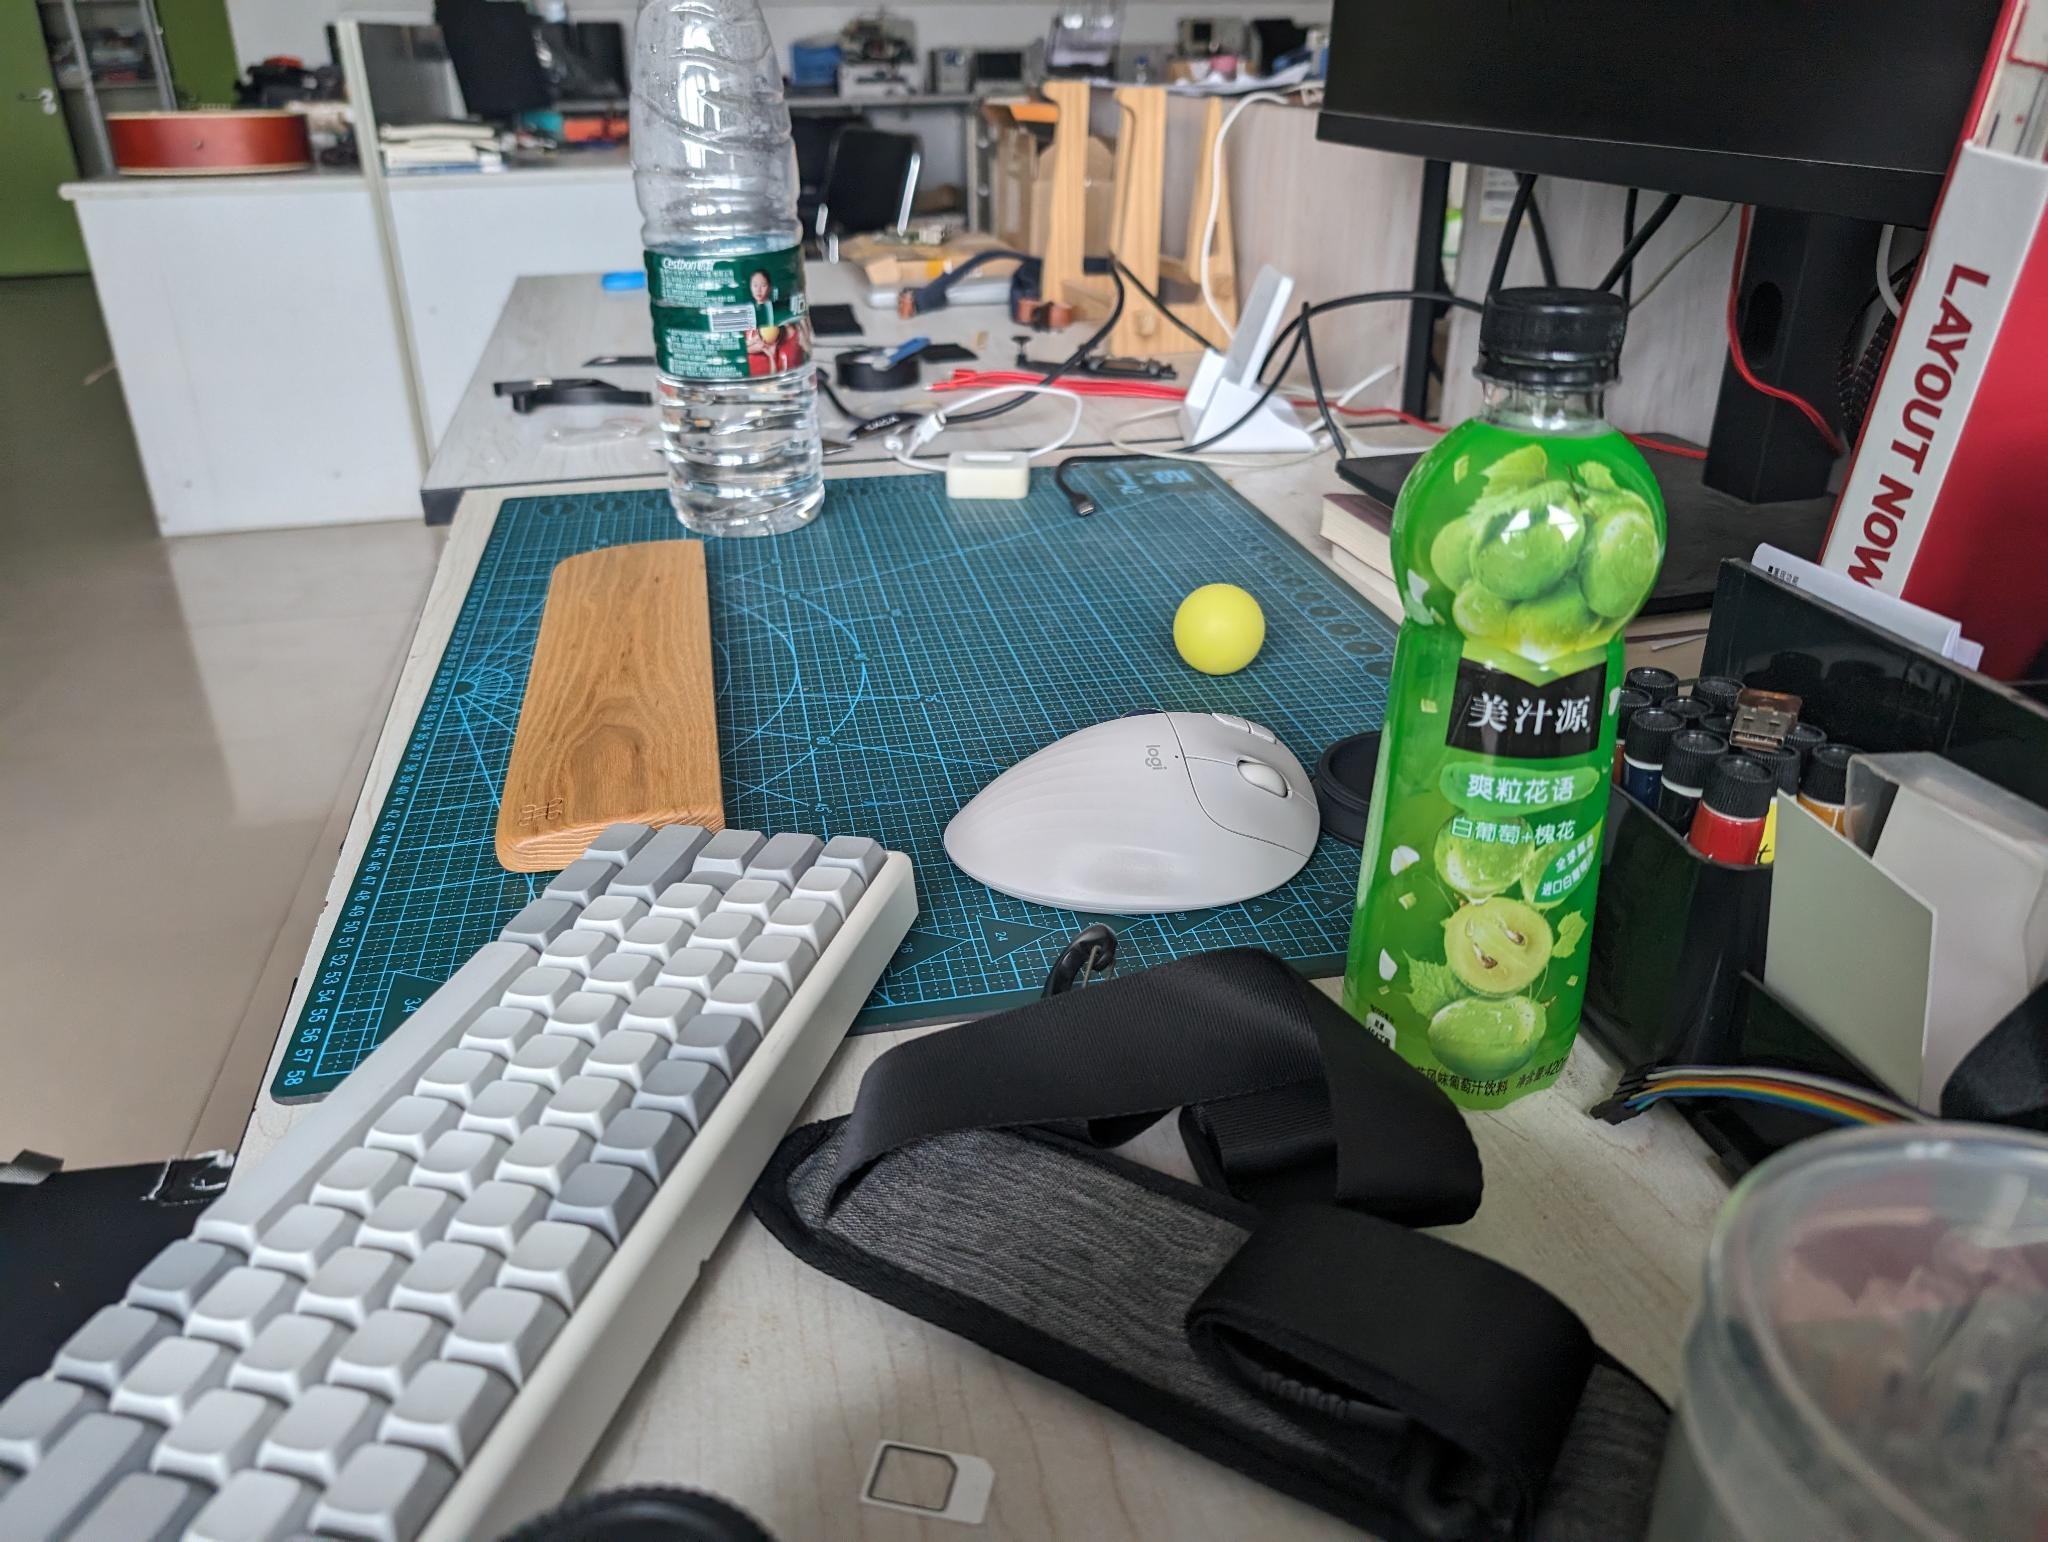ball: (1172, 583, 1262, 675)
